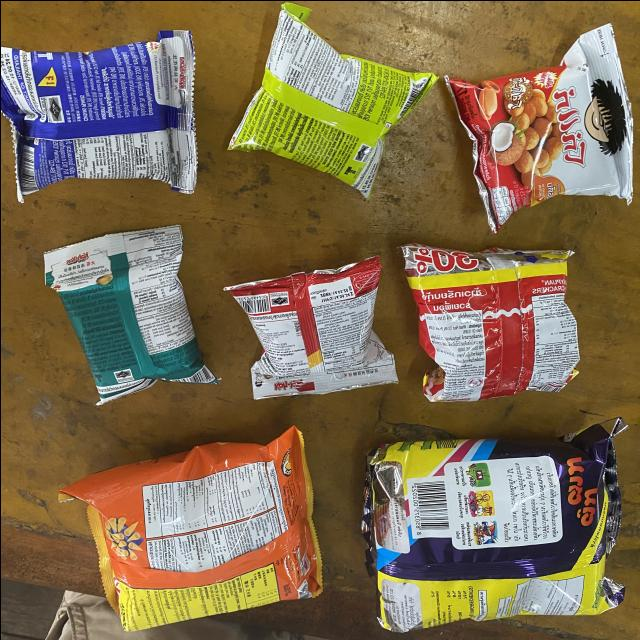plastik: (363, 417, 625, 631), (60, 426, 320, 630), (228, 2, 437, 197), (444, 23, 632, 232), (0, 30, 196, 201), (43, 224, 219, 404), (401, 244, 578, 400), (225, 255, 397, 398)
